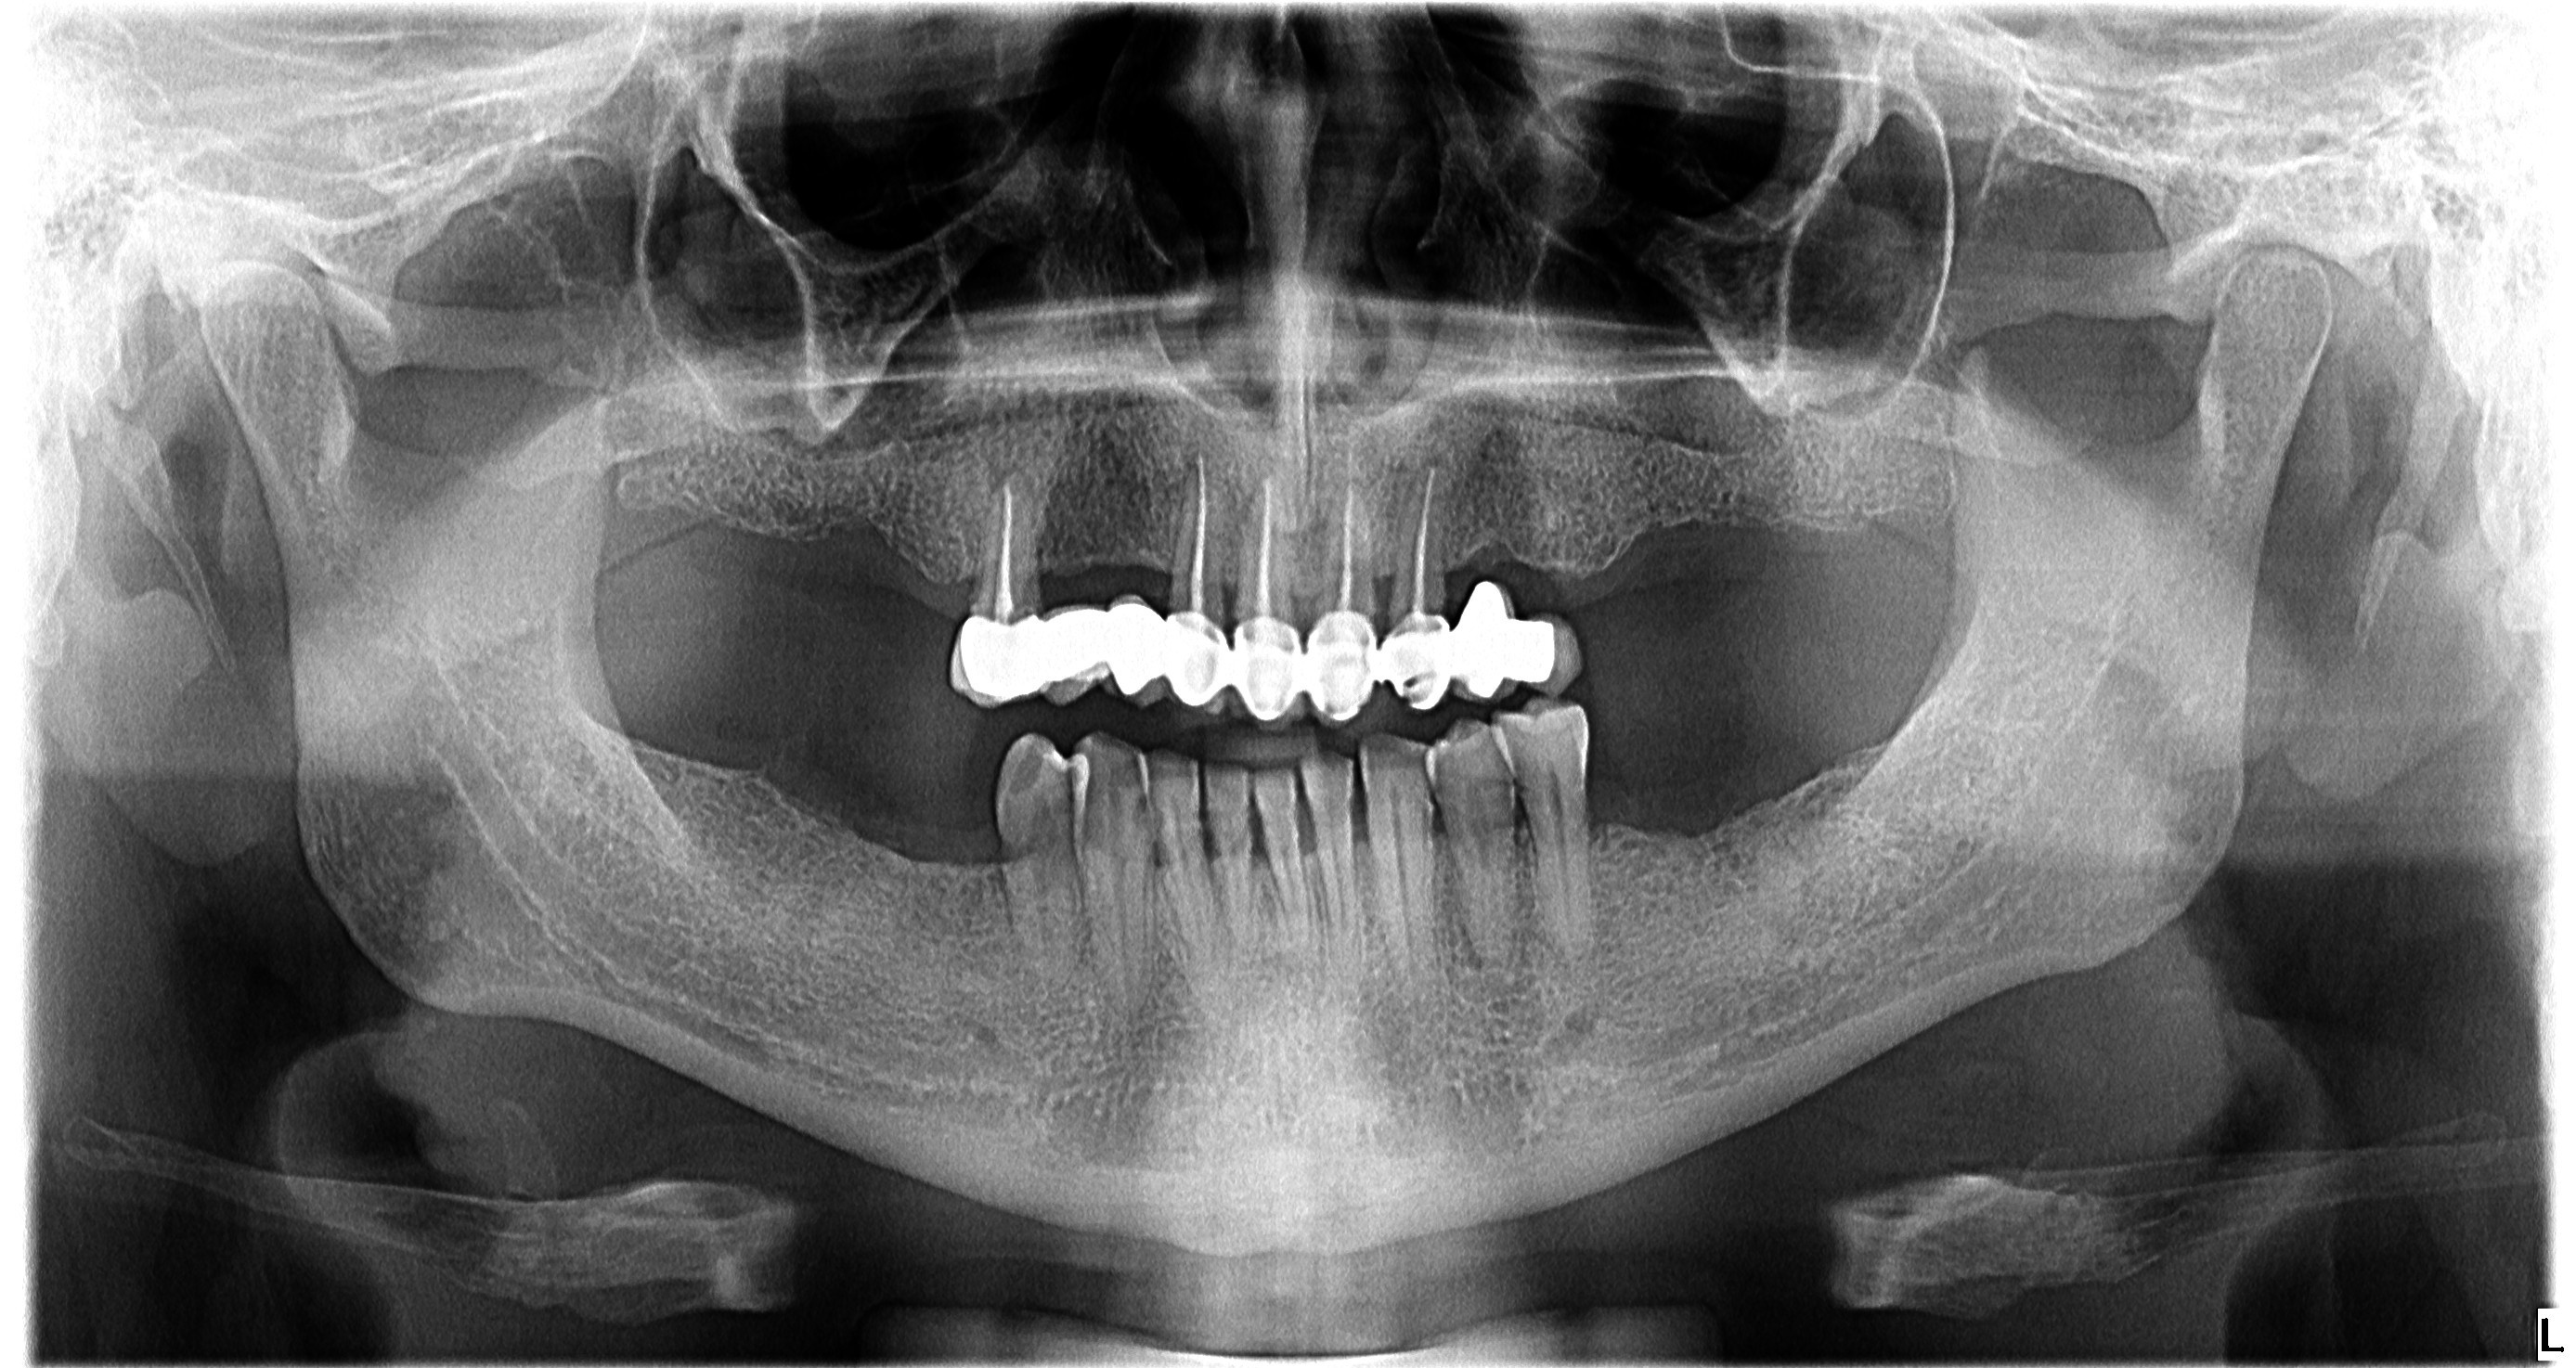BON: (746, 337, 2378, 1193), (726, 341, 2264, 1198), (678, 365, 2150, 1228), (641, 363, 2036, 1232), (627, 368, 1949, 1247), (584, 380, 1874, 1252), (426, 361, 1435, 1261)
END: (664, 148, 2118, 763), (634, 174, 2009, 789), (600, 165, 1884, 780), (571, 140, 1792, 760), (467, 170, 1503, 789)
PRR: (664, 228, 2230, 935), (215, 245, 1666, 971)
